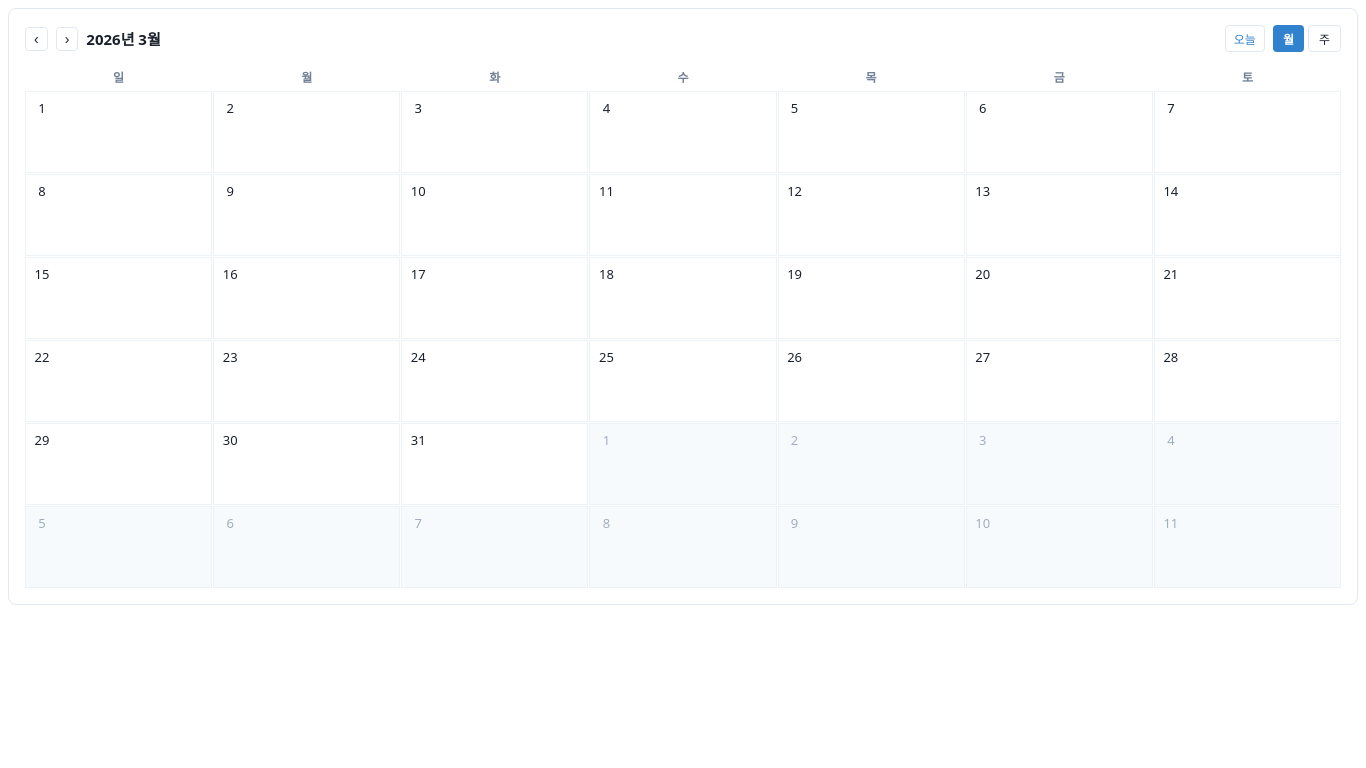
Calendar component › navigation › next button navigates to next month
Click the button named "다음".
click(67, 38)  # box [56,26,78,50]
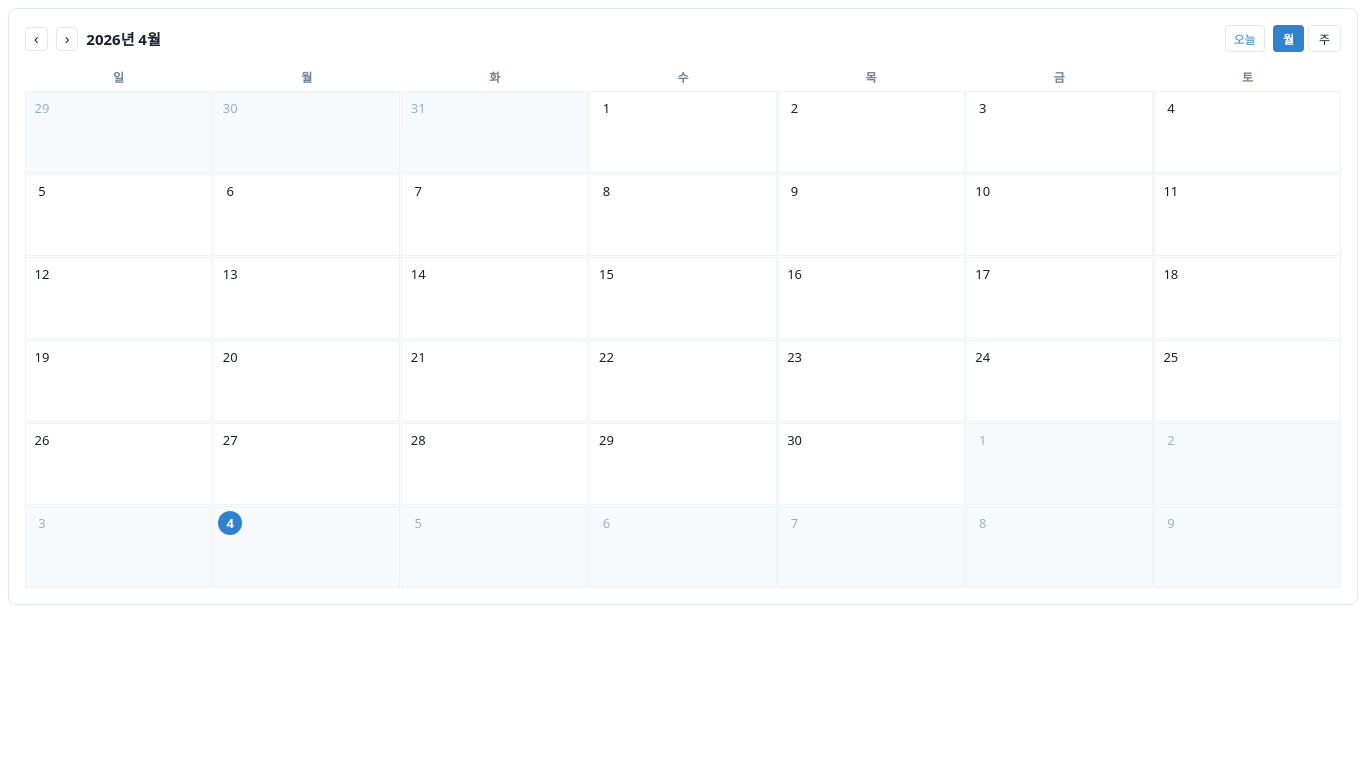
Expected: the text "2026년 4월" is shown, [86,28,161,49]
